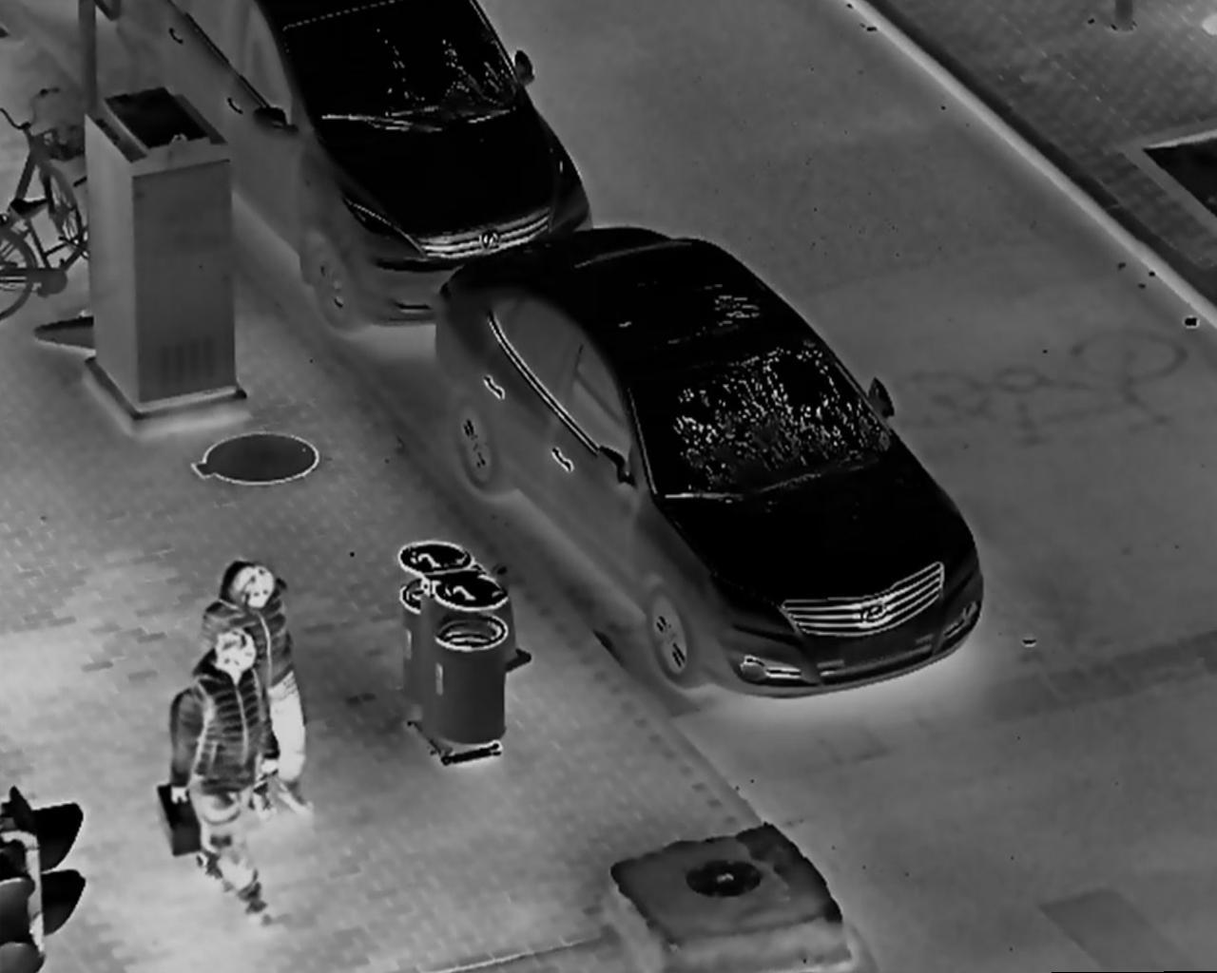person: (159, 629, 277, 928), (207, 554, 322, 824)
